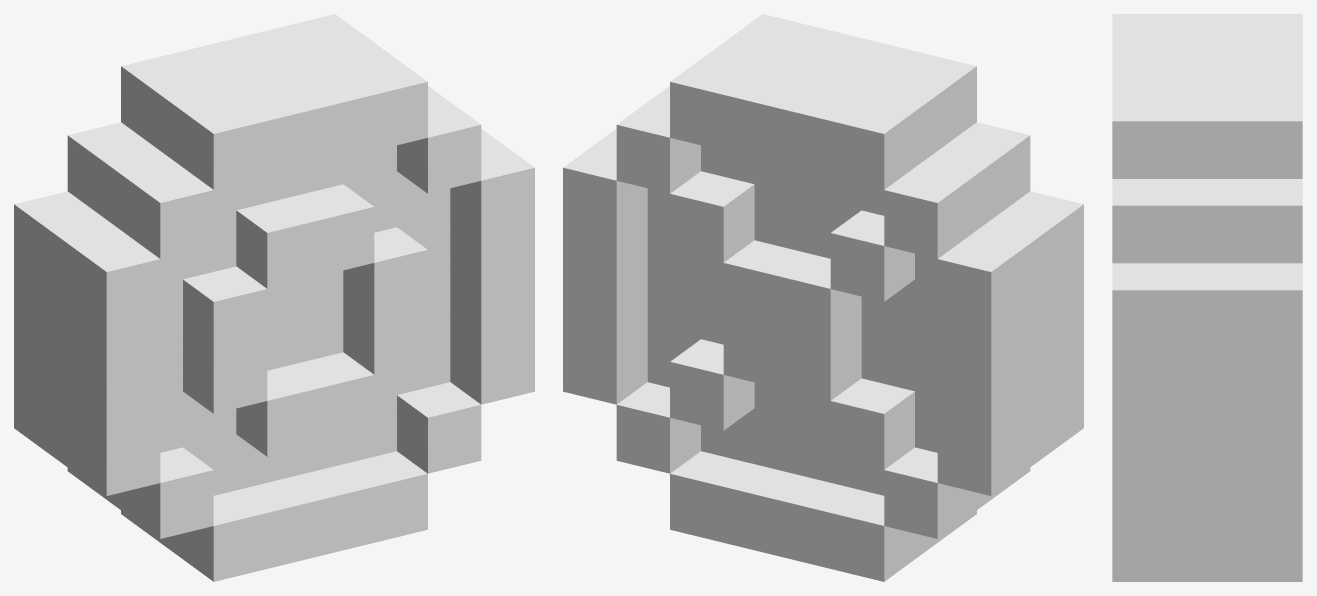
Rendered from Coin.fbx.
3 renders of one model, left to right at view 1: azimuth 30°, elevation 25°; view 2: azimuth 150°, elevation 25°; view 3: azimuth 270°, elevation 25°, orthographic. The views are drawn at different scales.
Parts seen in each view (by area): view 1: Coin; view 2: Coin; view 3: Coin.
Part boxes in pixels (x1,y1,x2,y2): Coin: (14, 14, 534, 581); Coin: (563, 14, 1083, 581); Coin: (1112, 14, 1302, 581).
Bounding box in the file's own units: 80 × 80 × 30.
